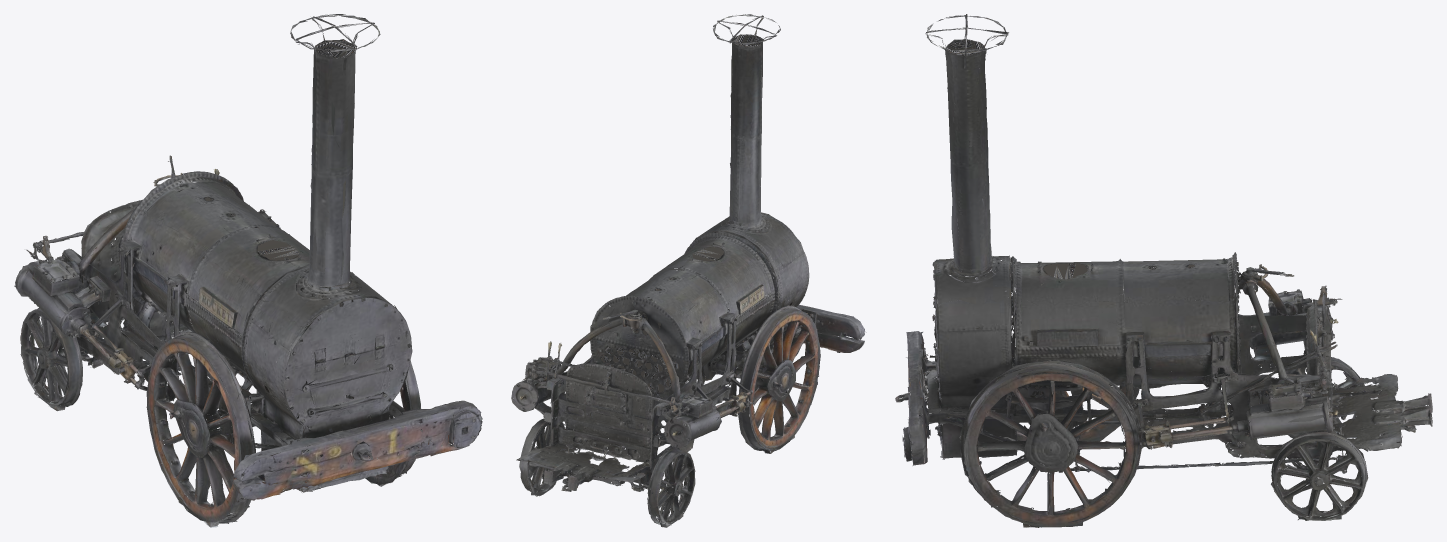
File: rocket.glb
3 renders of one model, left to right at view 1: azimuth 30°, elevation 25°; view 2: azimuth 150°, elevation 25°; view 3: azimuth 270°, elevation 25°, orthographic. The views are drawn at different scales.
Parts seen in each view (by area): view 1: rocket; view 2: rocket; view 3: rocket.
Boxes of the visible parts, left/top/right/bottom form: rocket: left=14, top=14, right=482, bottom=527; rocket: left=511, top=14, right=866, bottom=527; rocket: left=895, top=14, right=1432, bottom=527.
Size of the model in its own units: 1.53 by 3 by 3.15.
Materials: 1 (1 with a texture image).
